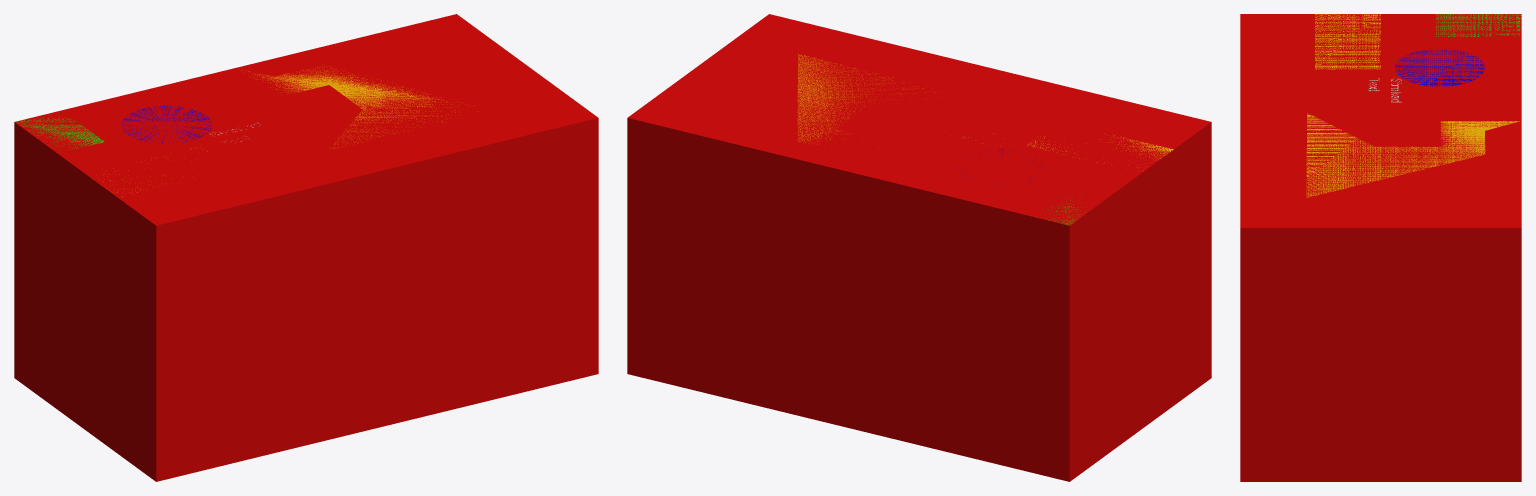
File: SketchOnSurface.glb
The picture shows the model from 3 angles, left to right: view 1: azimuth 30°, elevation 25°; view 2: azimuth 150°, elevation 25°; view 3: azimuth 270°, elevation 25°; orthographic projection.
Bounding box in the file's own units: 4589 × 2540 × 2549.
